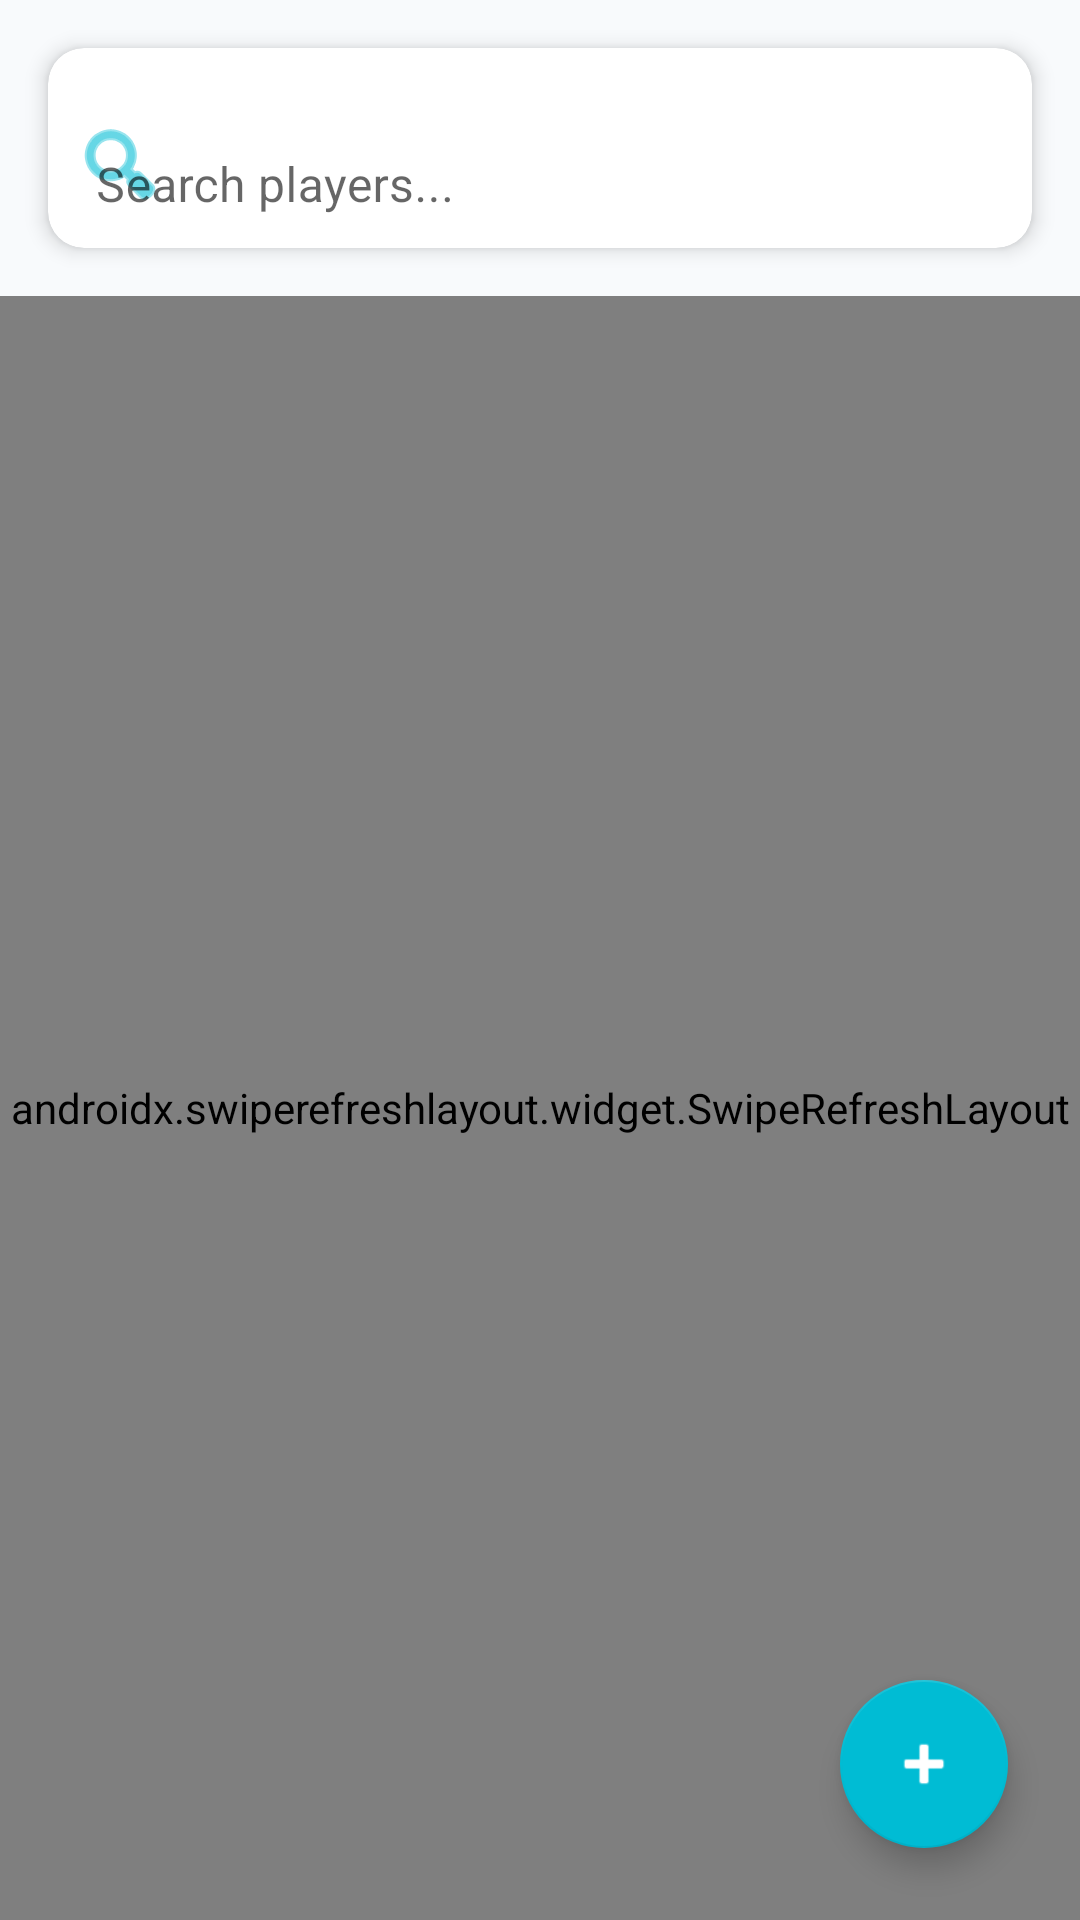

Where icons sit on this 1080px x 1920px app screen, as (x1, y1, x2, y2):
Add Player: (840, 1680, 1008, 1848)
